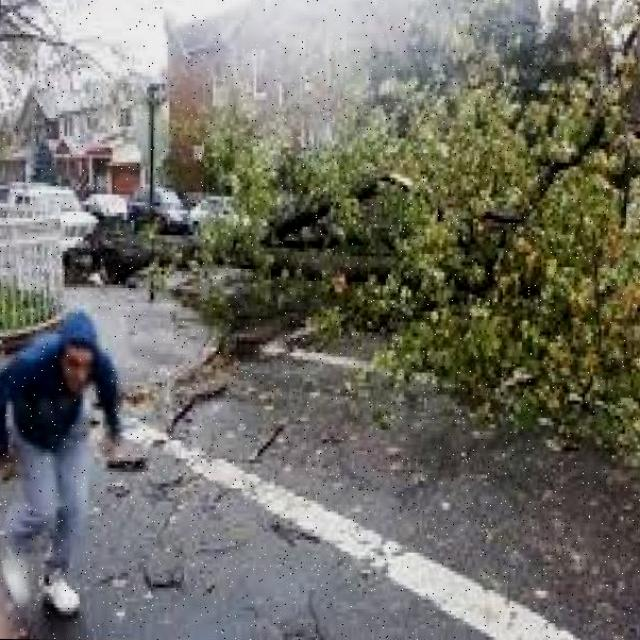fallen_object: (190, 165, 640, 302)
